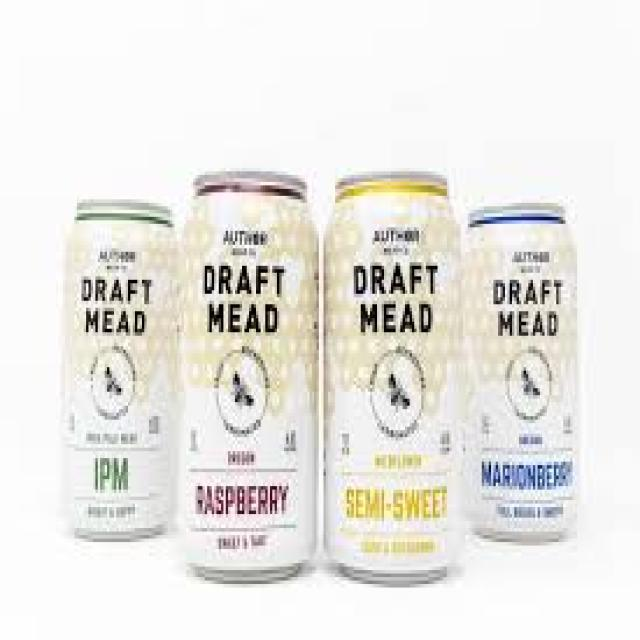Cans: (321, 161, 468, 587), (177, 164, 323, 584), (461, 192, 591, 556), (58, 192, 184, 546)
